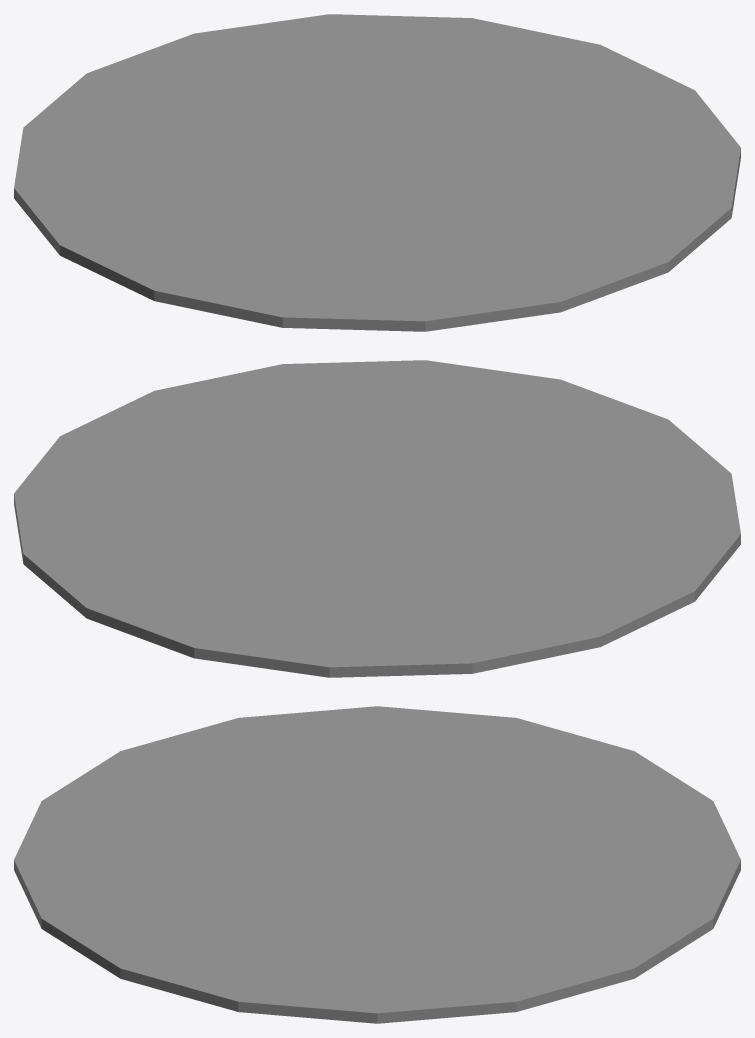
Rendered from Carpet_10.fbx.
The picture shows the model from 3 angles, top to bottom: view 1: azimuth 30°, elevation 25°; view 2: azimuth 150°, elevation 25°; view 3: azimuth 270°, elevation 25°; orthographic projection.
Parts seen in each view (by area): view 1: Carpet_10; view 2: Carpet_10; view 3: Carpet_10.
Boxes of the visible parts, box(x1,y1,x2,y2) form: Carpet_10: box(14, 14, 740, 331); Carpet_10: box(14, 360, 740, 677); Carpet_10: box(14, 706, 740, 1023).
Size of the model in its own units: 252 by 252 by 3.96.
